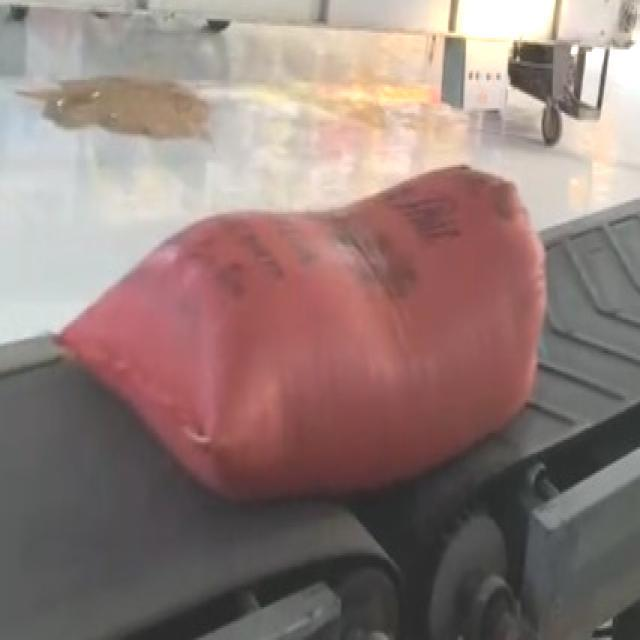gunny_bag: (61, 167, 547, 501)
